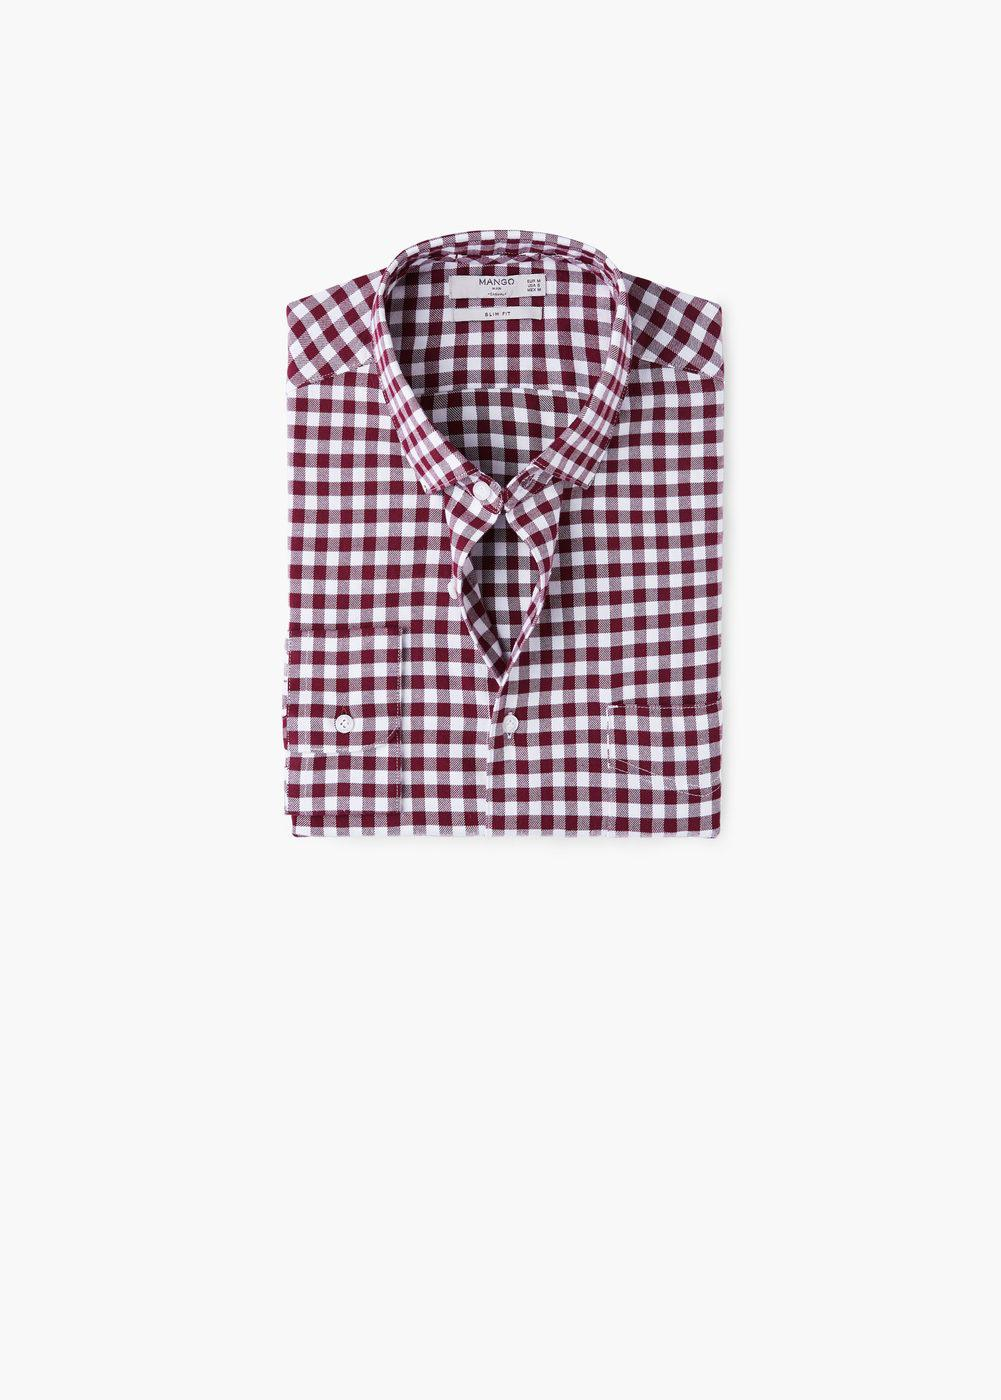teeshirt: (238, 221, 780, 957)
